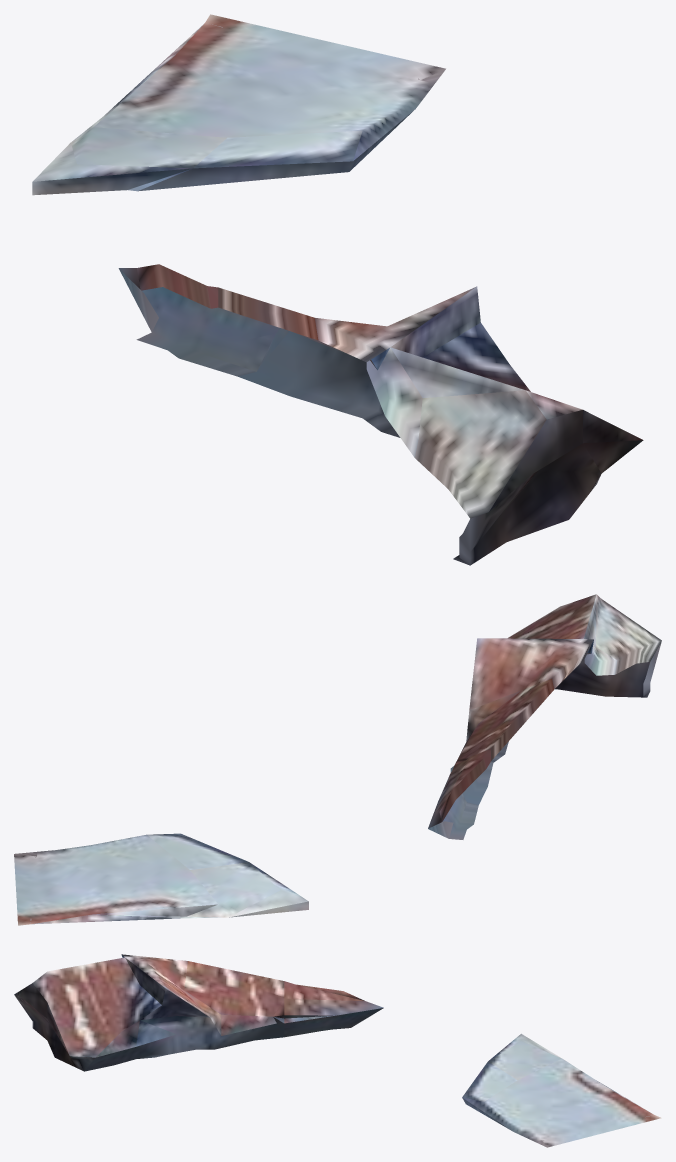
3 views of the same model, one above another, from view 1: azimuth 30°, elevation 25°; view 2: azimuth 150°, elevation 25°; view 3: azimuth 270°, elevation 25° (orthographic). The views are drawn at different scales.
Parts seen in each view (by area): view 1: 30436272704370627526_0; view 2: 30436272704370627526_0; view 3: 30436272704370627526_0.
Boxes of the visible parts, x1,y1,x2,y2 form: 30436272704370627526_0: (32, 14, 643, 565); 30436272704370627526_0: (14, 594, 661, 925); 30436272704370627526_0: (14, 954, 661, 1147).
Size of the model in its own units: 12.27 by 3.39 by 27.
1 material, 1 textured.
